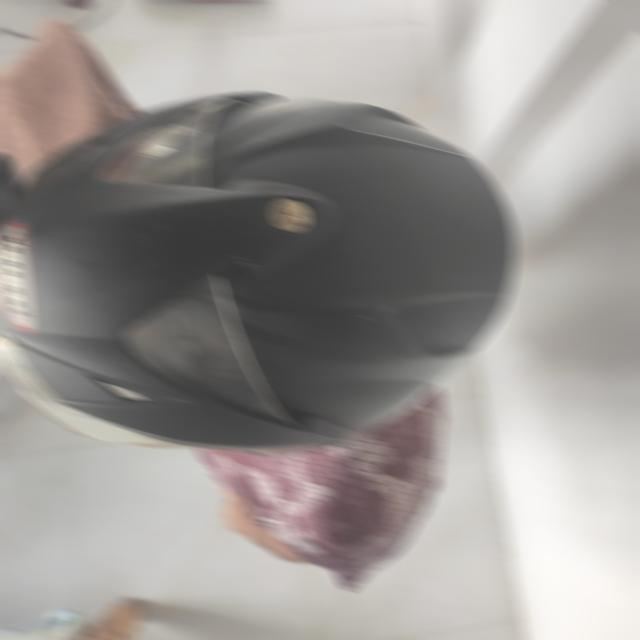With Helmet: (0, 88, 517, 450)
